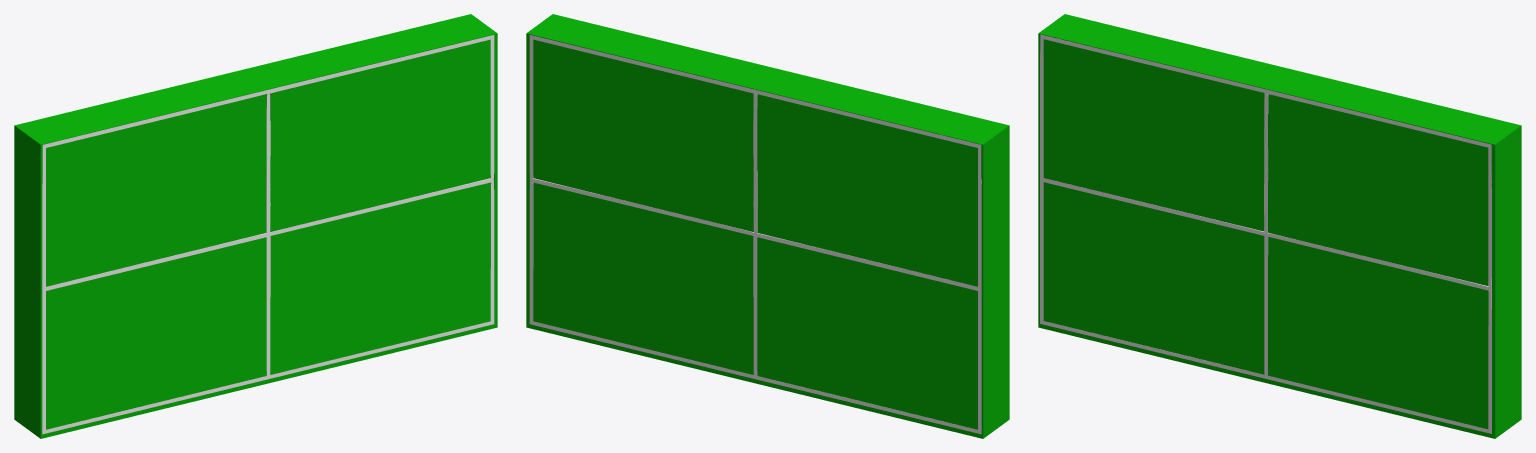
The model's file is table.glb.
3 renders of one model, left to right at view 1: azimuth 30°, elevation 25°; view 2: azimuth 150°, elevation 25°; view 3: azimuth 330°, elevation 25°, orthographic.
Visible parts, largest first — view 1: Node4, Node2, Node3, Node5, Node1, Node6; view 2: Node4, Node2, Node3, Node5, Node1, Node6; view 3: Node2, Node3, Node4, Node5, Node1, Node6.
Part boxes in pixels (x1,y1,x2,y2): Node4: [270, 182, 490, 374]; Node2: [46, 237, 266, 429]; Node3: [46, 94, 266, 286]; Node5: [270, 39, 490, 231]; Node1: [14, 14, 497, 438]; Node6: [42, 35, 494, 434]; Node4: [533, 182, 753, 374]; Node2: [757, 237, 977, 429]; Node3: [757, 94, 977, 286]; Node5: [533, 39, 753, 231]; Node1: [526, 14, 1009, 438]; Node6: [529, 35, 981, 434]; Node2: [1043, 182, 1264, 374]; Node3: [1043, 39, 1264, 231]; Node4: [1268, 237, 1488, 429]; Node5: [1268, 94, 1488, 285]; Node1: [1038, 14, 1521, 438]; Node6: [1040, 34, 1491, 433].
Bounding box in the file's own units: 9.99 × 6.15 × 1.
